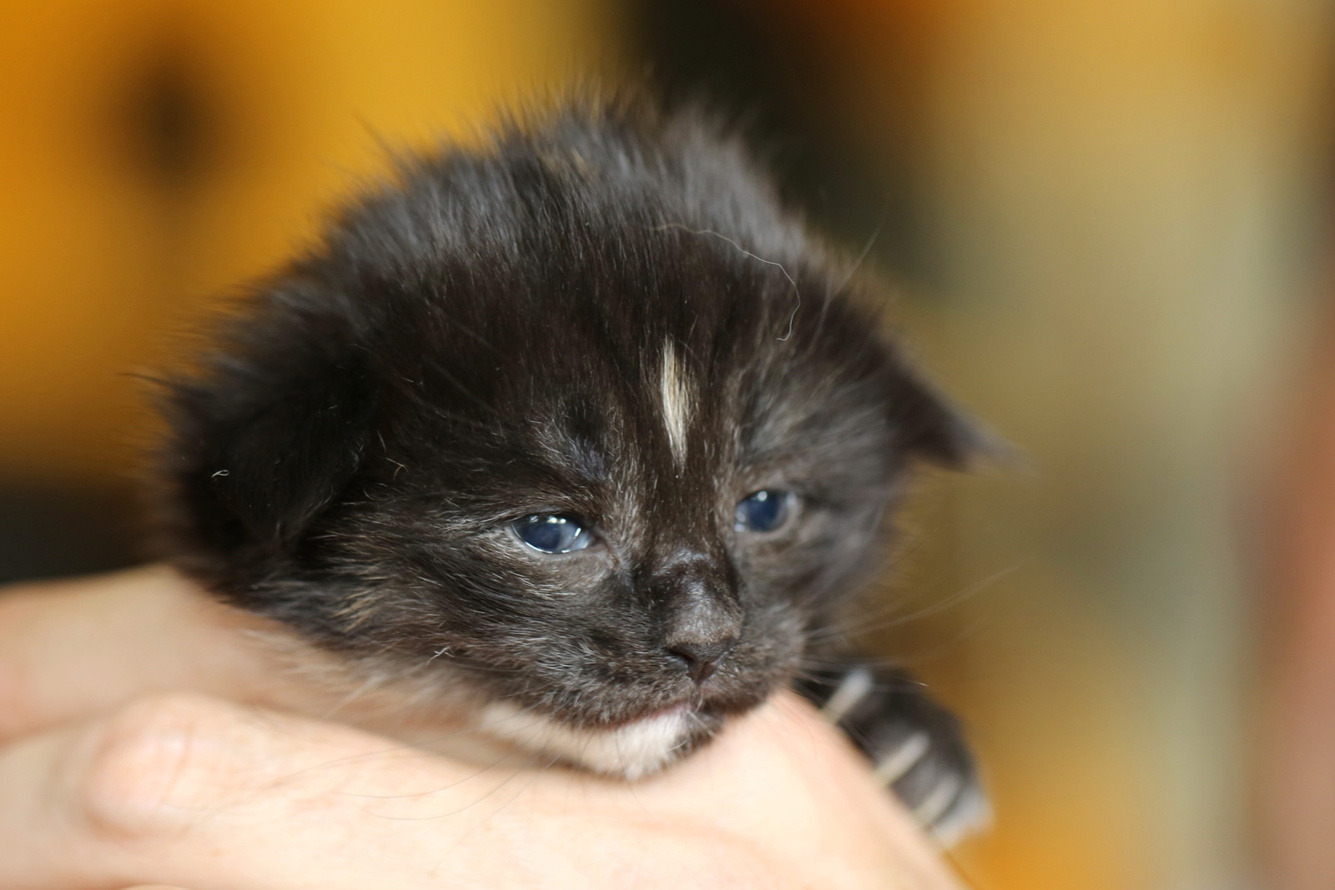cat: (97, 50, 1056, 847)
